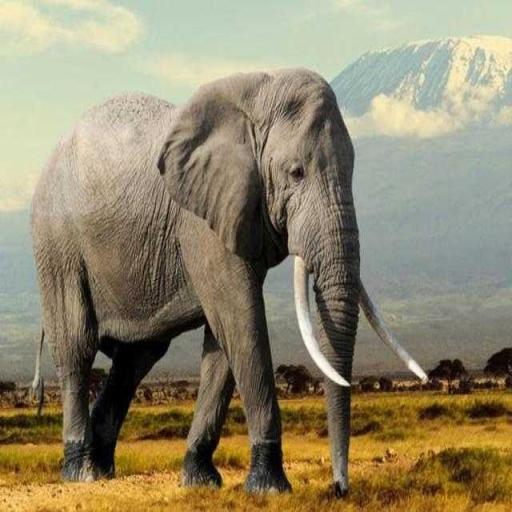Elephant: (29, 65, 429, 498)
